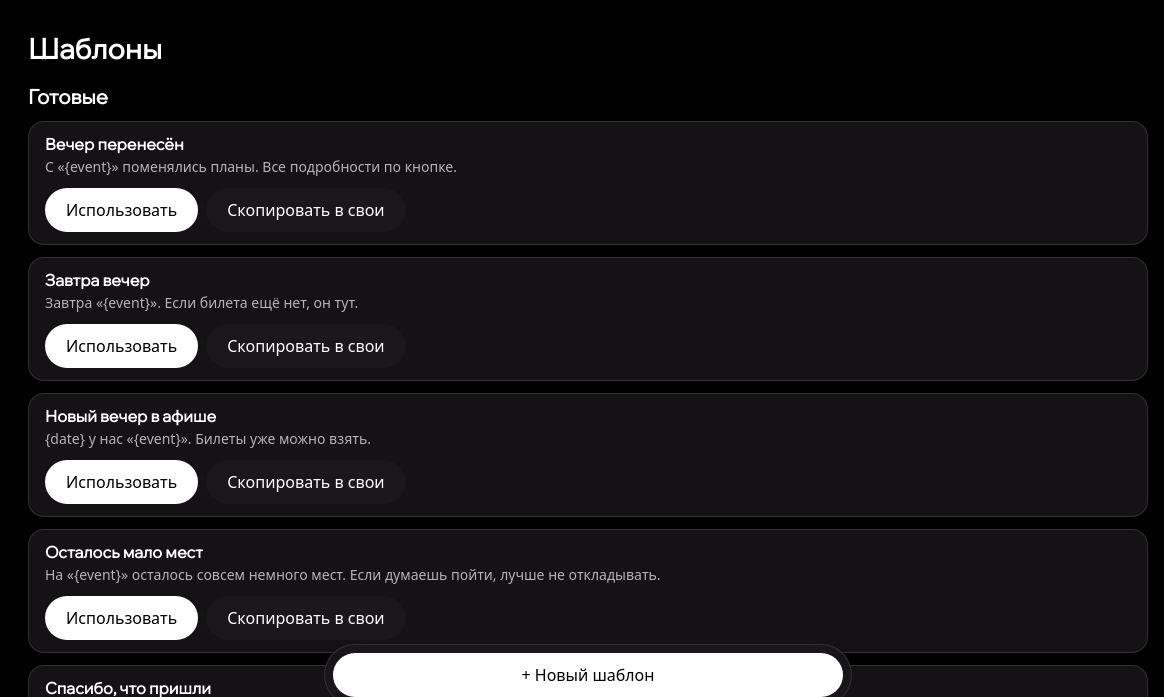
Test: Templates › copies a ready template into own ones
Check: the button "Править" is not shown
Check: the button "Удалить" is not shown
Click the button "Скопировать в свои" below "Осталось мало мест": (306, 618) x1=206 y1=596 x2=406 y2=640
(page scrolled)
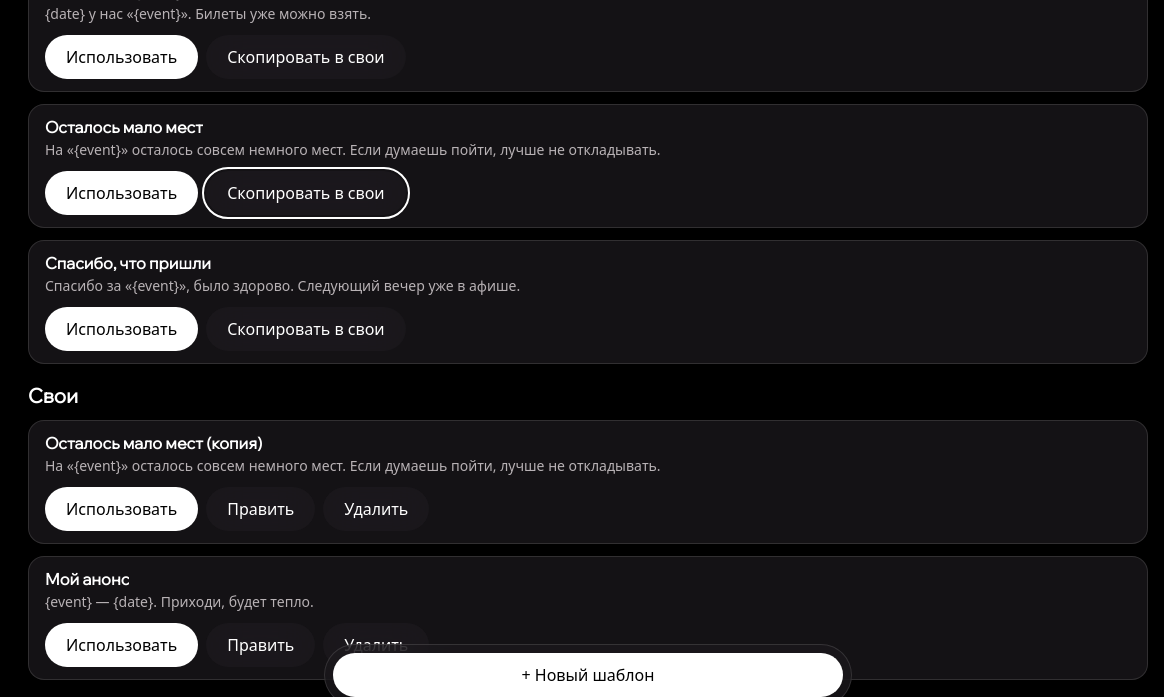
Check: the text "Осталось мало мест (копия)" is shown, box x1=45 y1=433 x2=262 y2=453
